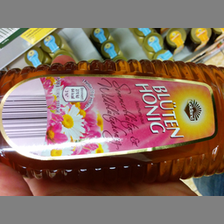honey: (1, 60, 224, 183)
